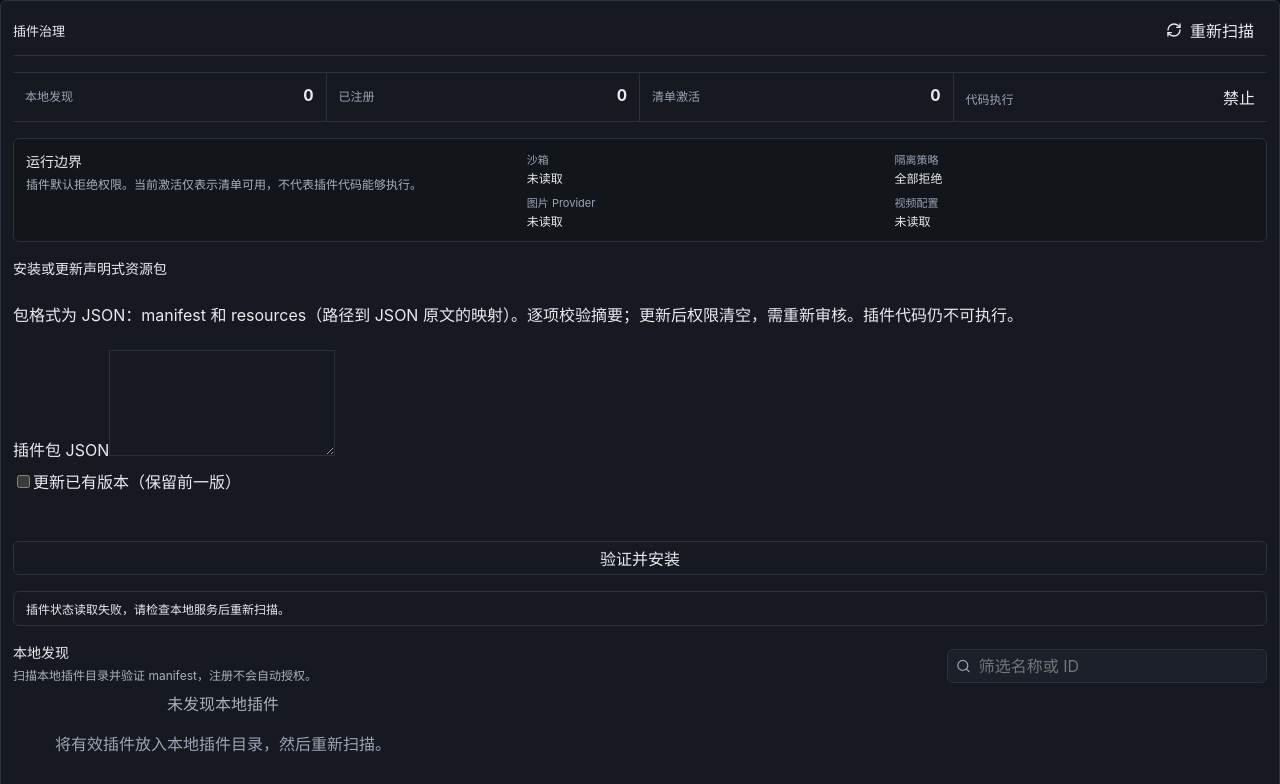
Scenario: sanitizes discovery errors and recovers from a failed scan
Check: the text "插件状态读取失败，请检查本地服务后重新扫描。" is shown, box x1=13 y1=591 x2=1267 y2=626
Click the button "重新扫描": click(1210, 30) x1=1153 y1=13 x2=1267 y2=47
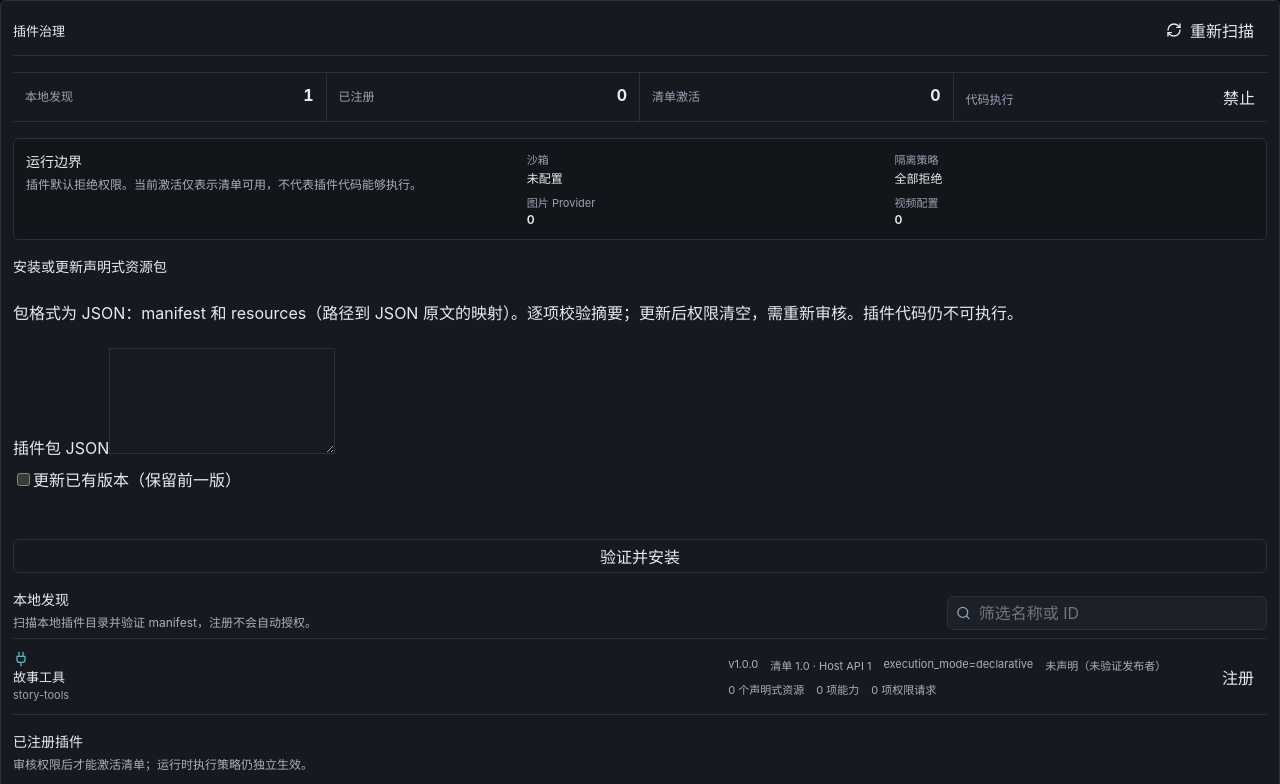
Check: the text "故事工具" is shown, box x1=13 y1=669 x2=65 y2=685
